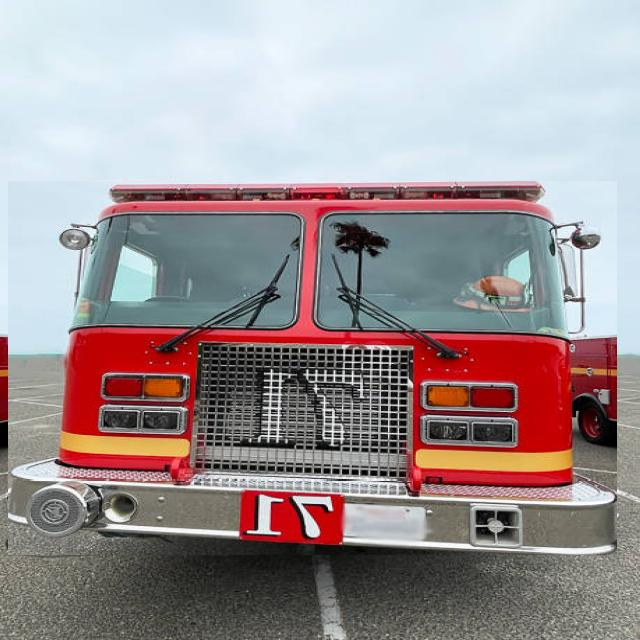emergency: (8, 181, 617, 555)
